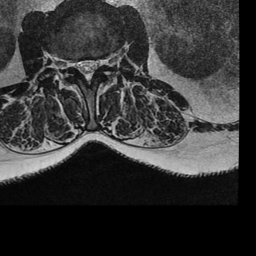CCS_normal: (83, 54, 92, 89)
LFS_stenosis: (100, 52, 107, 72)
LLS_normal: (92, 55, 99, 77)
RFS_stenosis: (67, 53, 75, 74)
RLS_stenosis: (75, 55, 83, 80)
